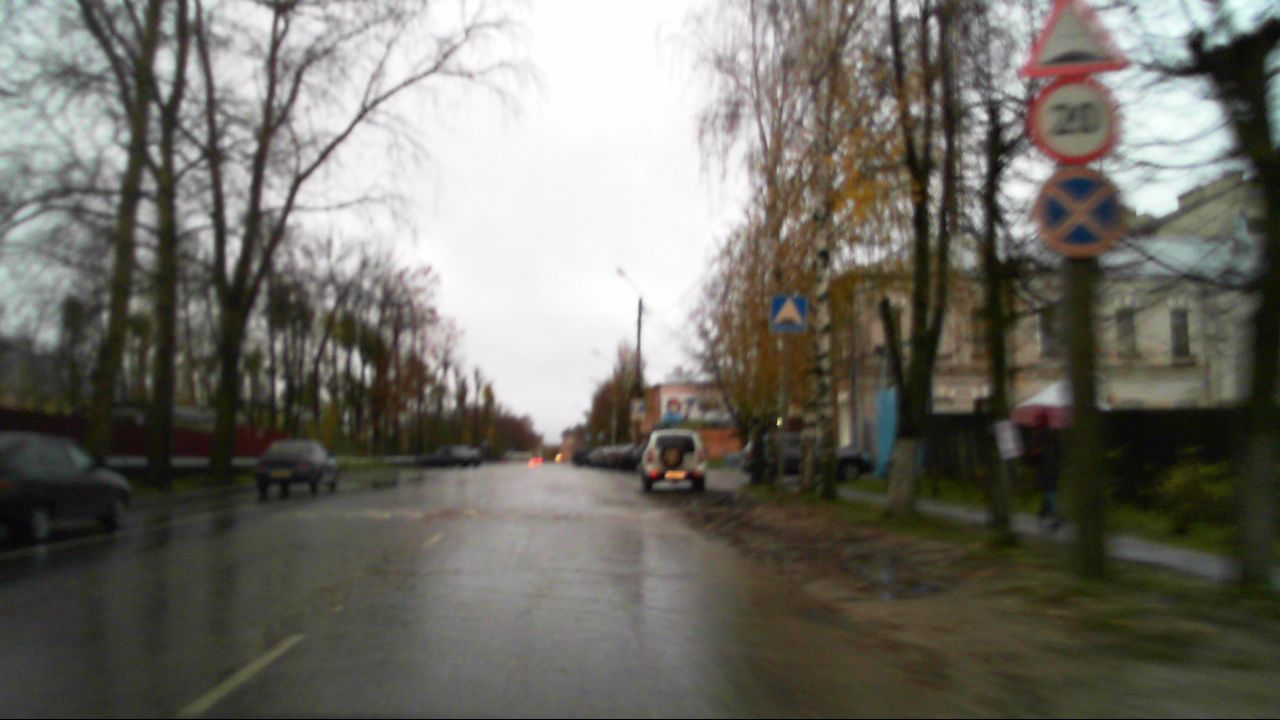No Parking: (1033, 165, 1124, 256)
